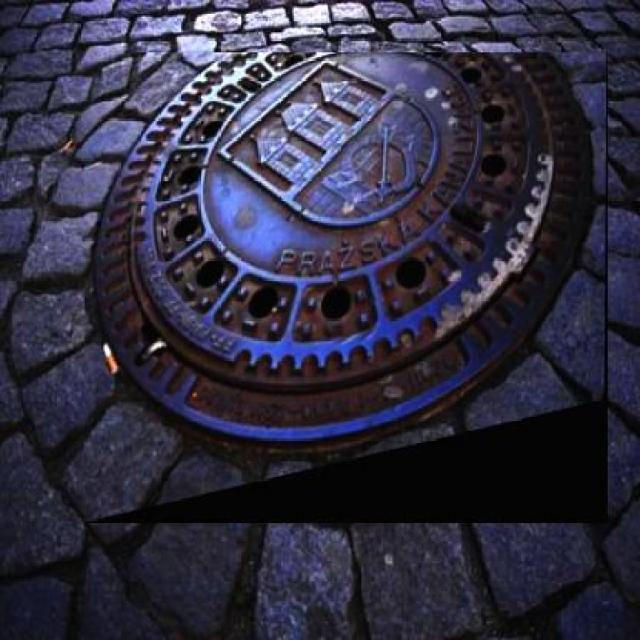Manhole: (85, 51, 608, 524)
